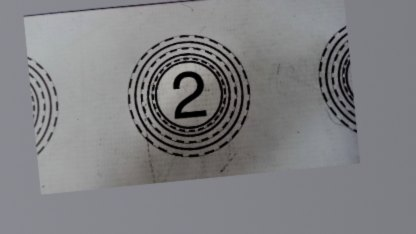2r: (120, 27, 256, 163)
